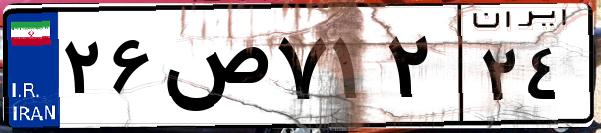1: (330, 28, 385, 110)
2: (385, 28, 445, 110), (57, 26, 110, 100), (475, 38, 525, 113)
4: (525, 38, 570, 115)
6: (110, 28, 158, 98)
7: (270, 28, 330, 110)
ص: (158, 20, 270, 120)
